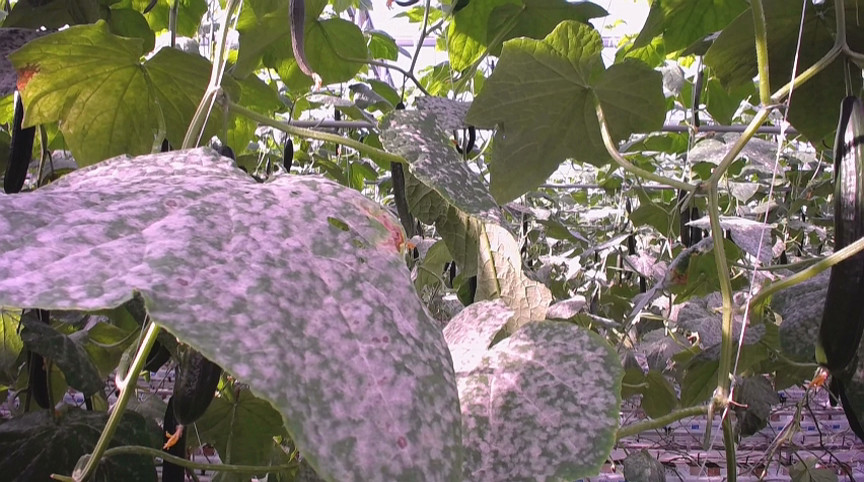cucumber: (816, 95, 864, 363), (171, 340, 221, 419), (6, 90, 35, 192)
